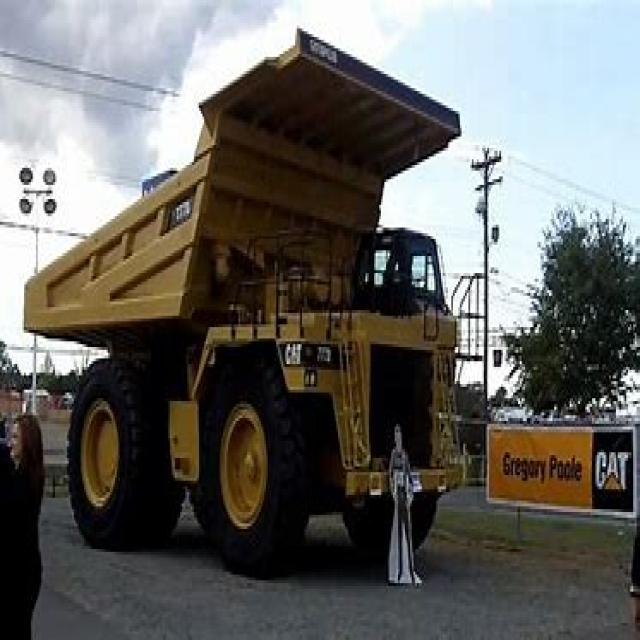dump_truck: (21, 26, 467, 546)
